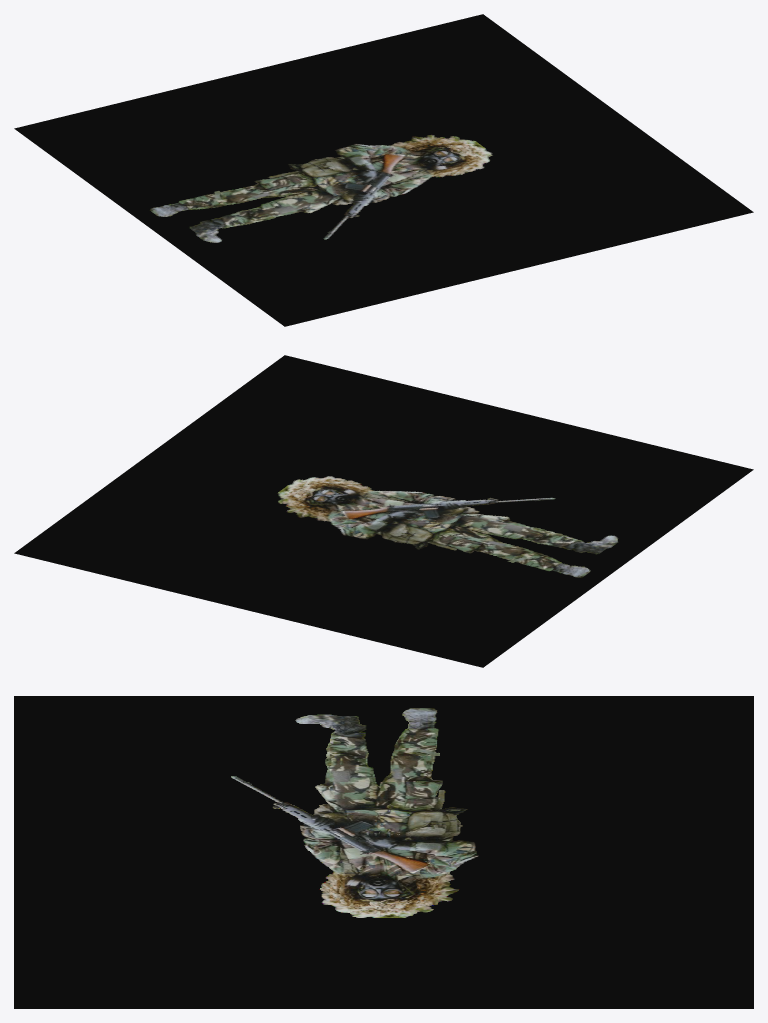
The picture shows the model from 3 angles, top to bottom: view 1: azimuth 30°, elevation 25°; view 2: azimuth 150°, elevation 25°; view 3: azimuth 270°, elevation 25°; orthographic projection. The views are drawn at different scales.
Parts seen in each view (by area): view 1: 0FRONT_Plane.002, 1BACK_Plane.002; view 2: 0FRONT_Plane.002, 1BACK_Plane.002; view 3: 0FRONT_Plane.002, 1BACK_Plane.002.
Boxes of the visible parts, x1,y1,x2,y2 form: 0FRONT_Plane.002: (153, 14, 753, 326); 1BACK_Plane.002: (14, 14, 495, 235); 0FRONT_Plane.002: (14, 355, 753, 577); 1BACK_Plane.002: (15, 552, 616, 667); 0FRONT_Plane.002: (14, 696, 753, 1008); 1BACK_Plane.002: (389, 696, 753, 1008).
Size of the model in its own units: 3 by 0.0481 by 3.
